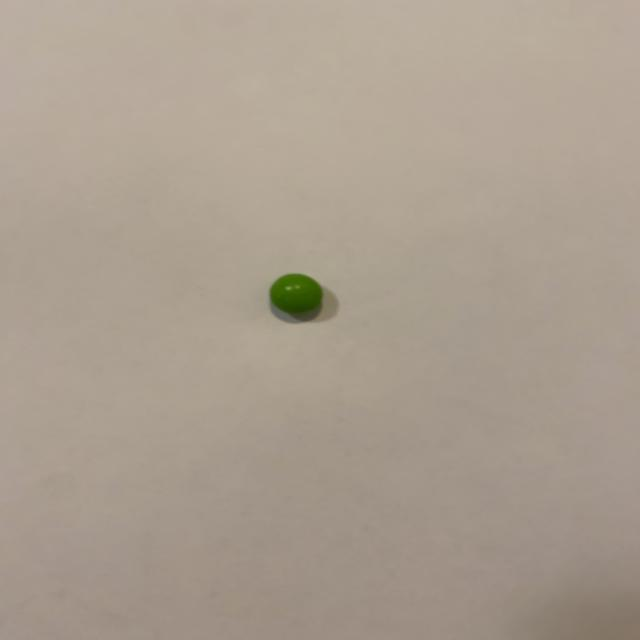smartie: (269, 273, 323, 312)
